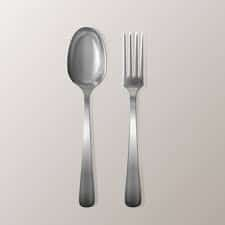fork: (121, 30, 147, 211)
spoon: (63, 22, 112, 210)
